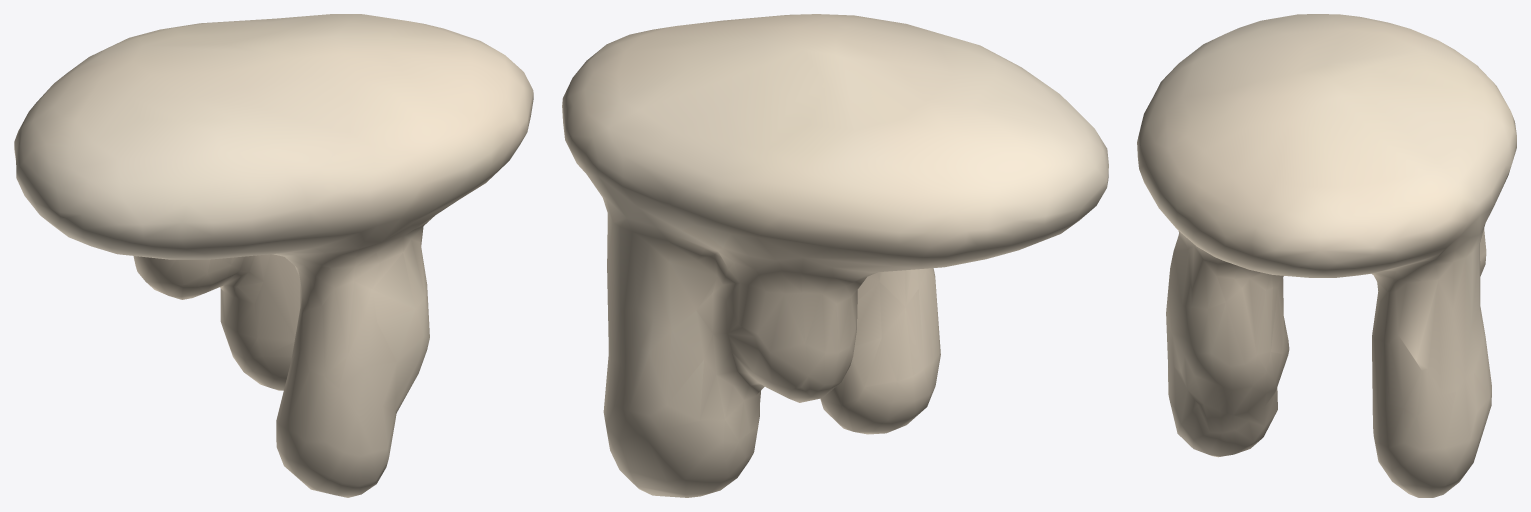
File: frost_wax_ledge.glb
3 views of the same model, side by side, from view 1: azimuth 30°, elevation 25°; view 2: azimuth 150°, elevation 25°; view 3: azimuth 270°, elevation 25° (orthographic). The views are drawn at different scales.
Visible parts, largest first — view 1: frost_wax_ledge; view 2: frost_wax_ledge; view 3: frost_wax_ledge.
Boxes of the visible parts, bbox=[...] form: frost_wax_ledge: bbox=[14, 14, 533, 497]; frost_wax_ledge: bbox=[562, 14, 1108, 497]; frost_wax_ledge: bbox=[1137, 14, 1516, 497].
Size of the model in its own units: 2.14 by 1.75 by 1.58.
